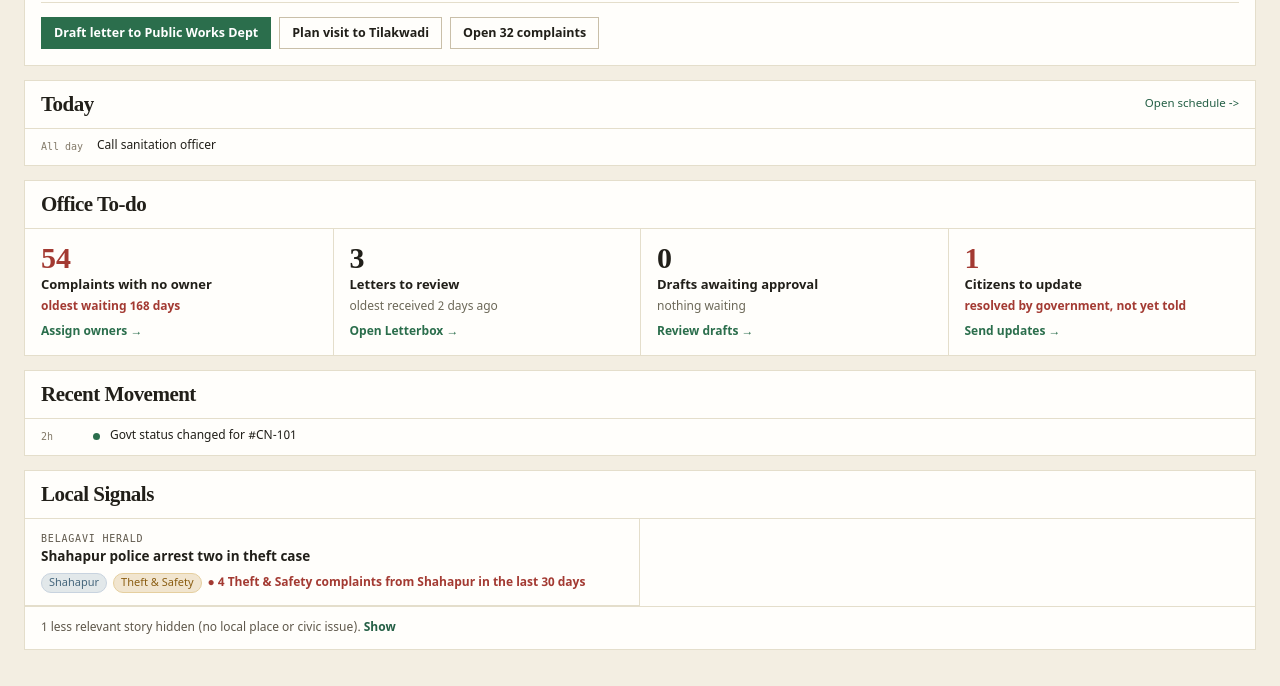
Test case: MP dashboard overview › Local Signals: tagged stories, no action buttons or filters, low-relevance stories hidden
(page scrolled)
Expected: the link "Shahapur police arrest two in theft case" is shown, [41,549,310,567]
Expected: the text "Shahapur" is shown, [41,573,107,593]
Step 1. Click the button "Show" → (380, 628), box [364,619,396,637]
(page scrolled)
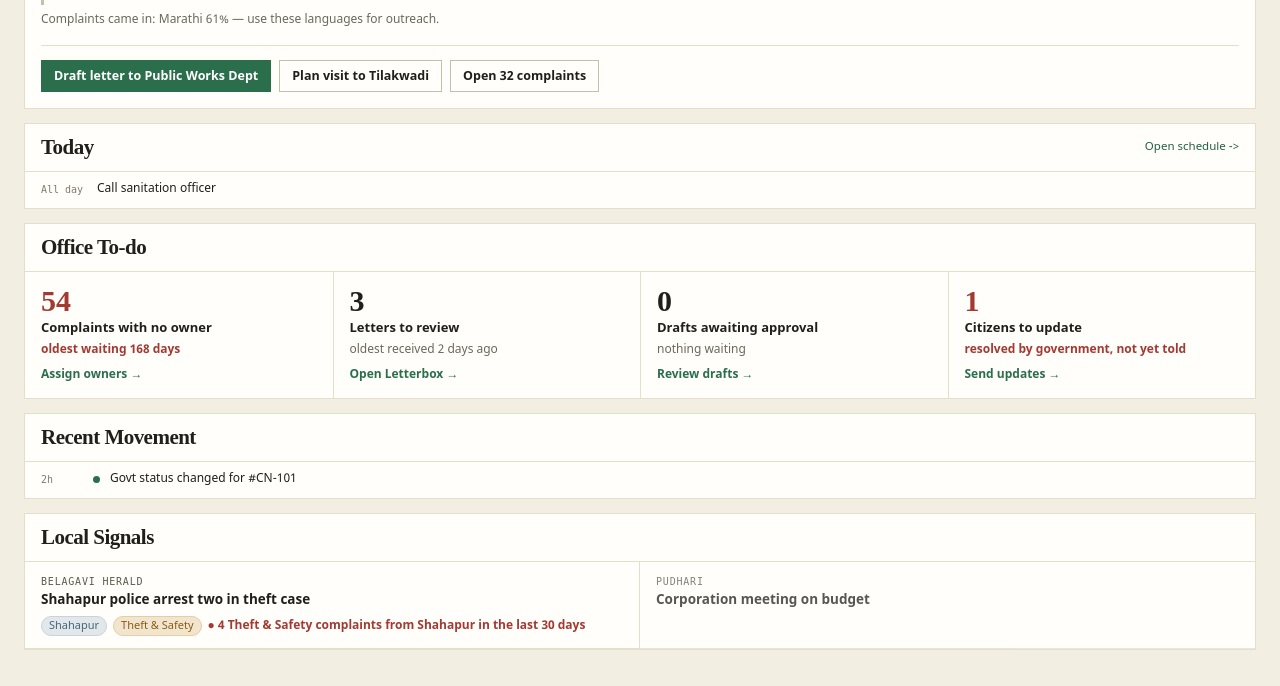
Now the link "Corporation meeting on budget" is shown, box [656,592,870,610]
